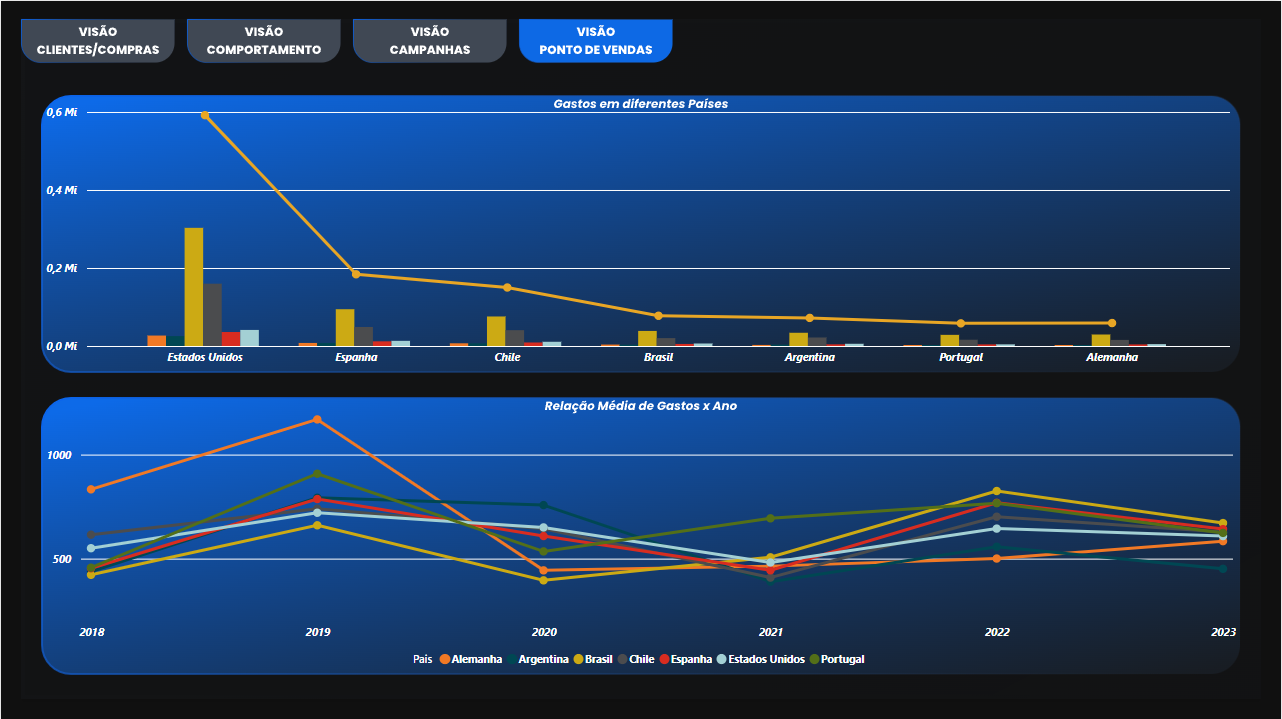

What the dashboard file says about the page in this screenshot:
{"tool":"powerbi","page":{"name":"Visão Pontos de vendas","canvas":[1280,720],"ordinal":4},"visuals":[{"type":"lineClusteredColumnComboChart","title":"Total de Gastos em diferentes Países","fields":{"Category":["Dados_Mkt.Pais"],"Y":["Sum(Dados_Mkt.Gasto com Alimentos)","Sum(Dados_Mkt.Gasto com Brinquedos)","Sum(Dados_Mkt.Gasto com Eletronicos)","Sum(Dados_Mkt.Gasto com Moveis)","Sum(Dados_Mkt.Gasto com Utilidades)","Sum(Dados_Mkt.Gasto com Vestuario)"],"Y2":["Sum(Dados_Mkt.Gastos_totais)"]},"box":[40,96,1194,278],"z":0},{"type":"lineChart","fields":{"Category":["Dados_Mkt.Data Cadastro.Variation.Hierarquia de datas.Ano"],"Y":["Avg(Dados_Mkt.Gastos_totais)"],"Series":["Dados_Mkt.Pais"]},"box":[40,398,1200,278],"z":1000},{"type":"actionButton","box":[20,20,153.8,44.1],"z":2000},{"type":"actionButton","box":[185.9,20,153.8,44.1],"z":3000},{"type":"actionButton","box":[352,20,153.8,44.1],"z":4000}]}

Visuals, with their boxes in screenshot pixels (x1, y1, x2, y2), scaled from the page's 1280x720 canvas onto the 1282x719 screenshot:
"Total de Gastos em diferentes Países" lineClusteredColumnComboChart: (40,96,1236,373)
lineChart - Dados_Mkt.Data Cadastro.Variation.Hierarquia de datas.Ano x Avg(Dados_Mkt.Gastos_totais): (40,397,1242,675)
actionButton: (20,20,174,64)
actionButton: (186,20,340,64)
actionButton: (353,20,507,64)
